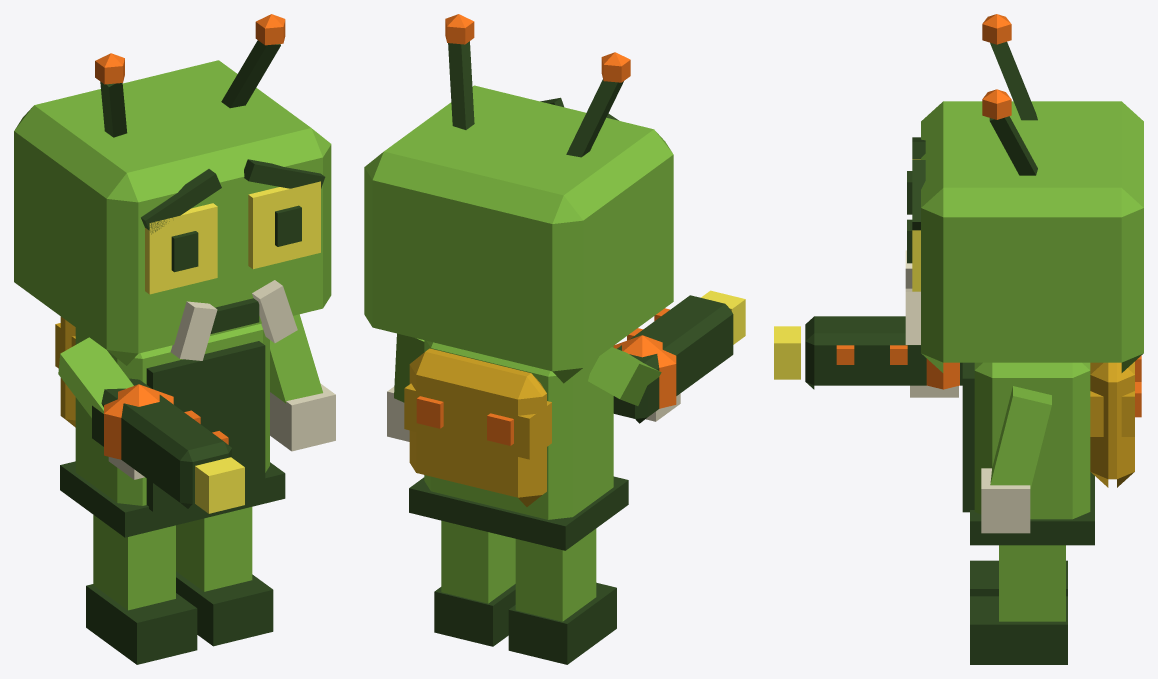
Rendered from gunner_r10.glb.
3 renders of one model, left to right at view 1: azimuth 30°, elevation 25°; view 2: azimuth 150°, elevation 25°; view 3: azimuth 270°, elevation 25°, orthographic. The views are drawn at different scales.
Parts seen in each view (by area): view 1: gunner_r10_mesh; view 2: gunner_r10_mesh; view 3: gunner_r10_mesh.
Part boxes in pixels (x1,y1,x2,y2): gunner_r10_mesh: (14,14,335,664); gunner_r10_mesh: (364,14,745,664); gunner_r10_mesh: (774,14,1143,664).
Size of the model in its own units: 0.7047 by 1.6 by 0.9222.
Materials: 1 (1 with a texture image).
